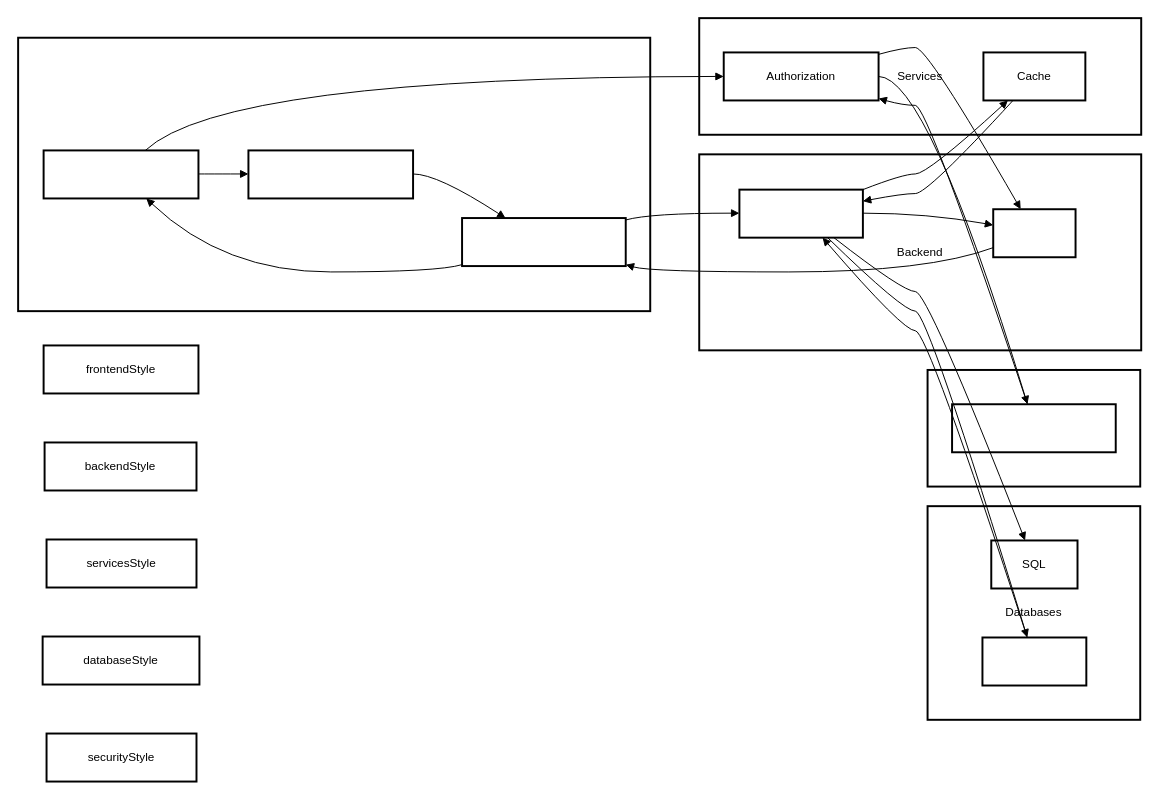
The diagram is 1158 pixels wide and 799 high, and some of its shapes have lost their labels. Each missing label, with the centre of its shape:
"API" goes at pixel 1034 233.
"Authentication" goes at pixel 1033 428.
"Database" goes at pixel 800 213.
"DataProcessing" goes at pixel 543 242.
"FormValidation" goes at pixel 330 174.
"NoSQL" goes at pixel 1034 661.
"UserInterface" goes at pixel 120 174.
